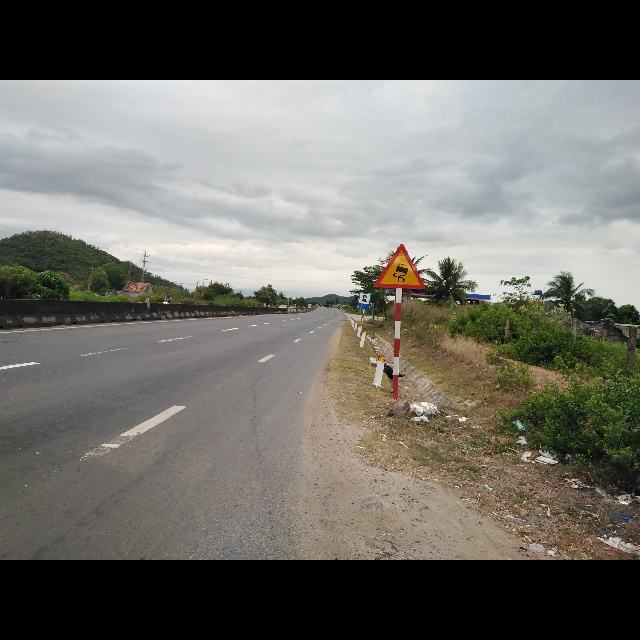Đường trơn trượt: (373, 241, 425, 291)
